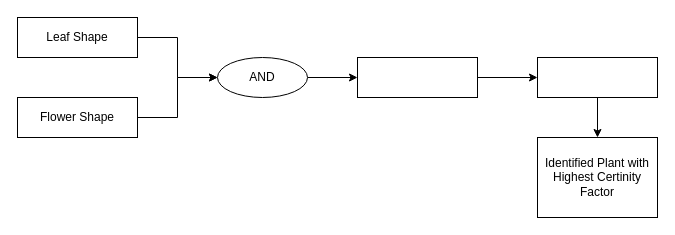
This 675x235 diagram has some shape labels left out. The shapes that lost their labels are listed below. From the top down, each one's centre as x and y in pixels, then its label:
pixel 417 77: Identified Plants
pixel 597 77: Certinity Factor
